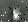person: (14, 9, 21, 21)
